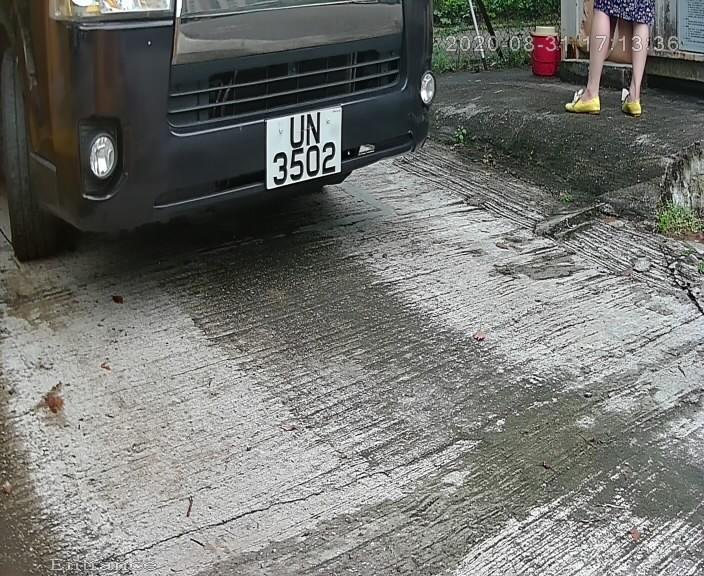Car: (16, 1, 488, 286)
License Plate: (258, 96, 353, 193)
